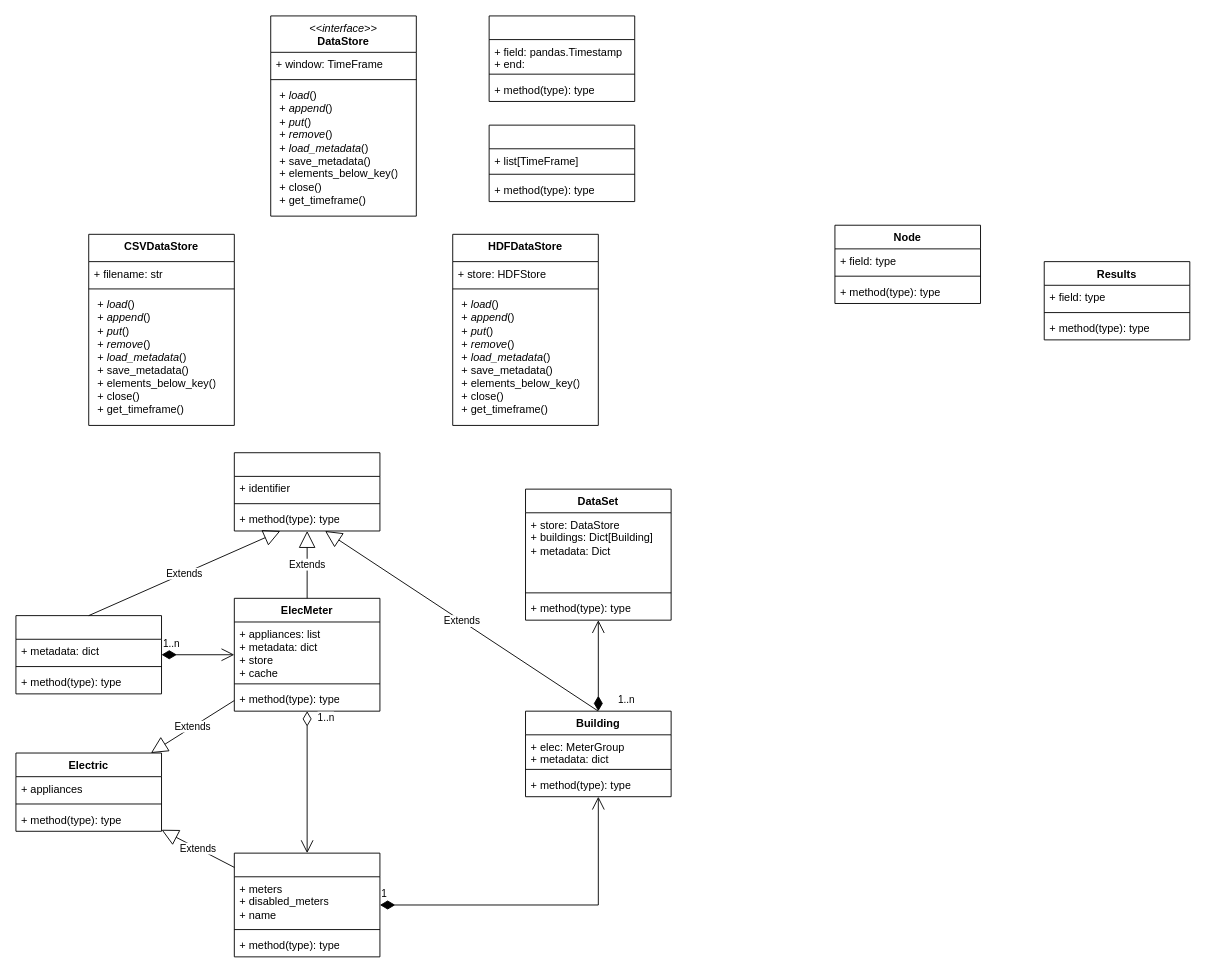
Some shapes in this 1206 by 976 pixel diagram are drawn without their labels. Here are the shapes that lost their labels. From the top down, the box of each, then its label:
(488, 15, 635, 101): TimeFrame
(488, 124, 635, 202): TimeFrameGroup
(233, 452, 380, 531): Hashable
(15, 615, 162, 694): Appliance
(233, 852, 380, 957): MeterGroup
